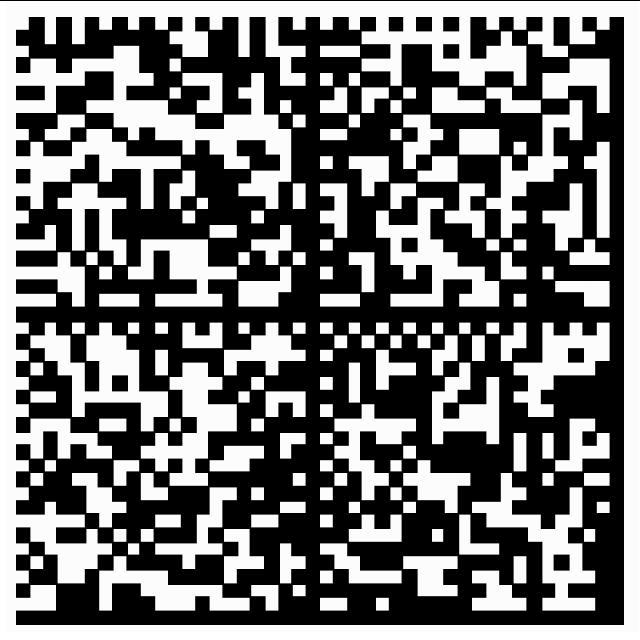Data-Matrix: (6, 0, 639, 631)
